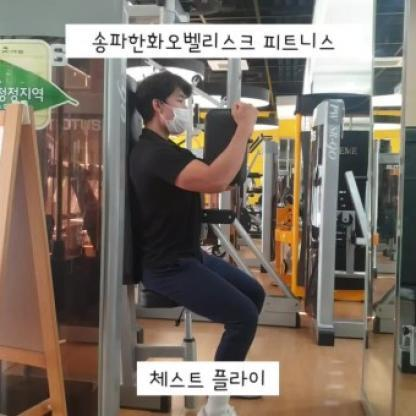chest fly machine: (0, 0, 283, 416)
